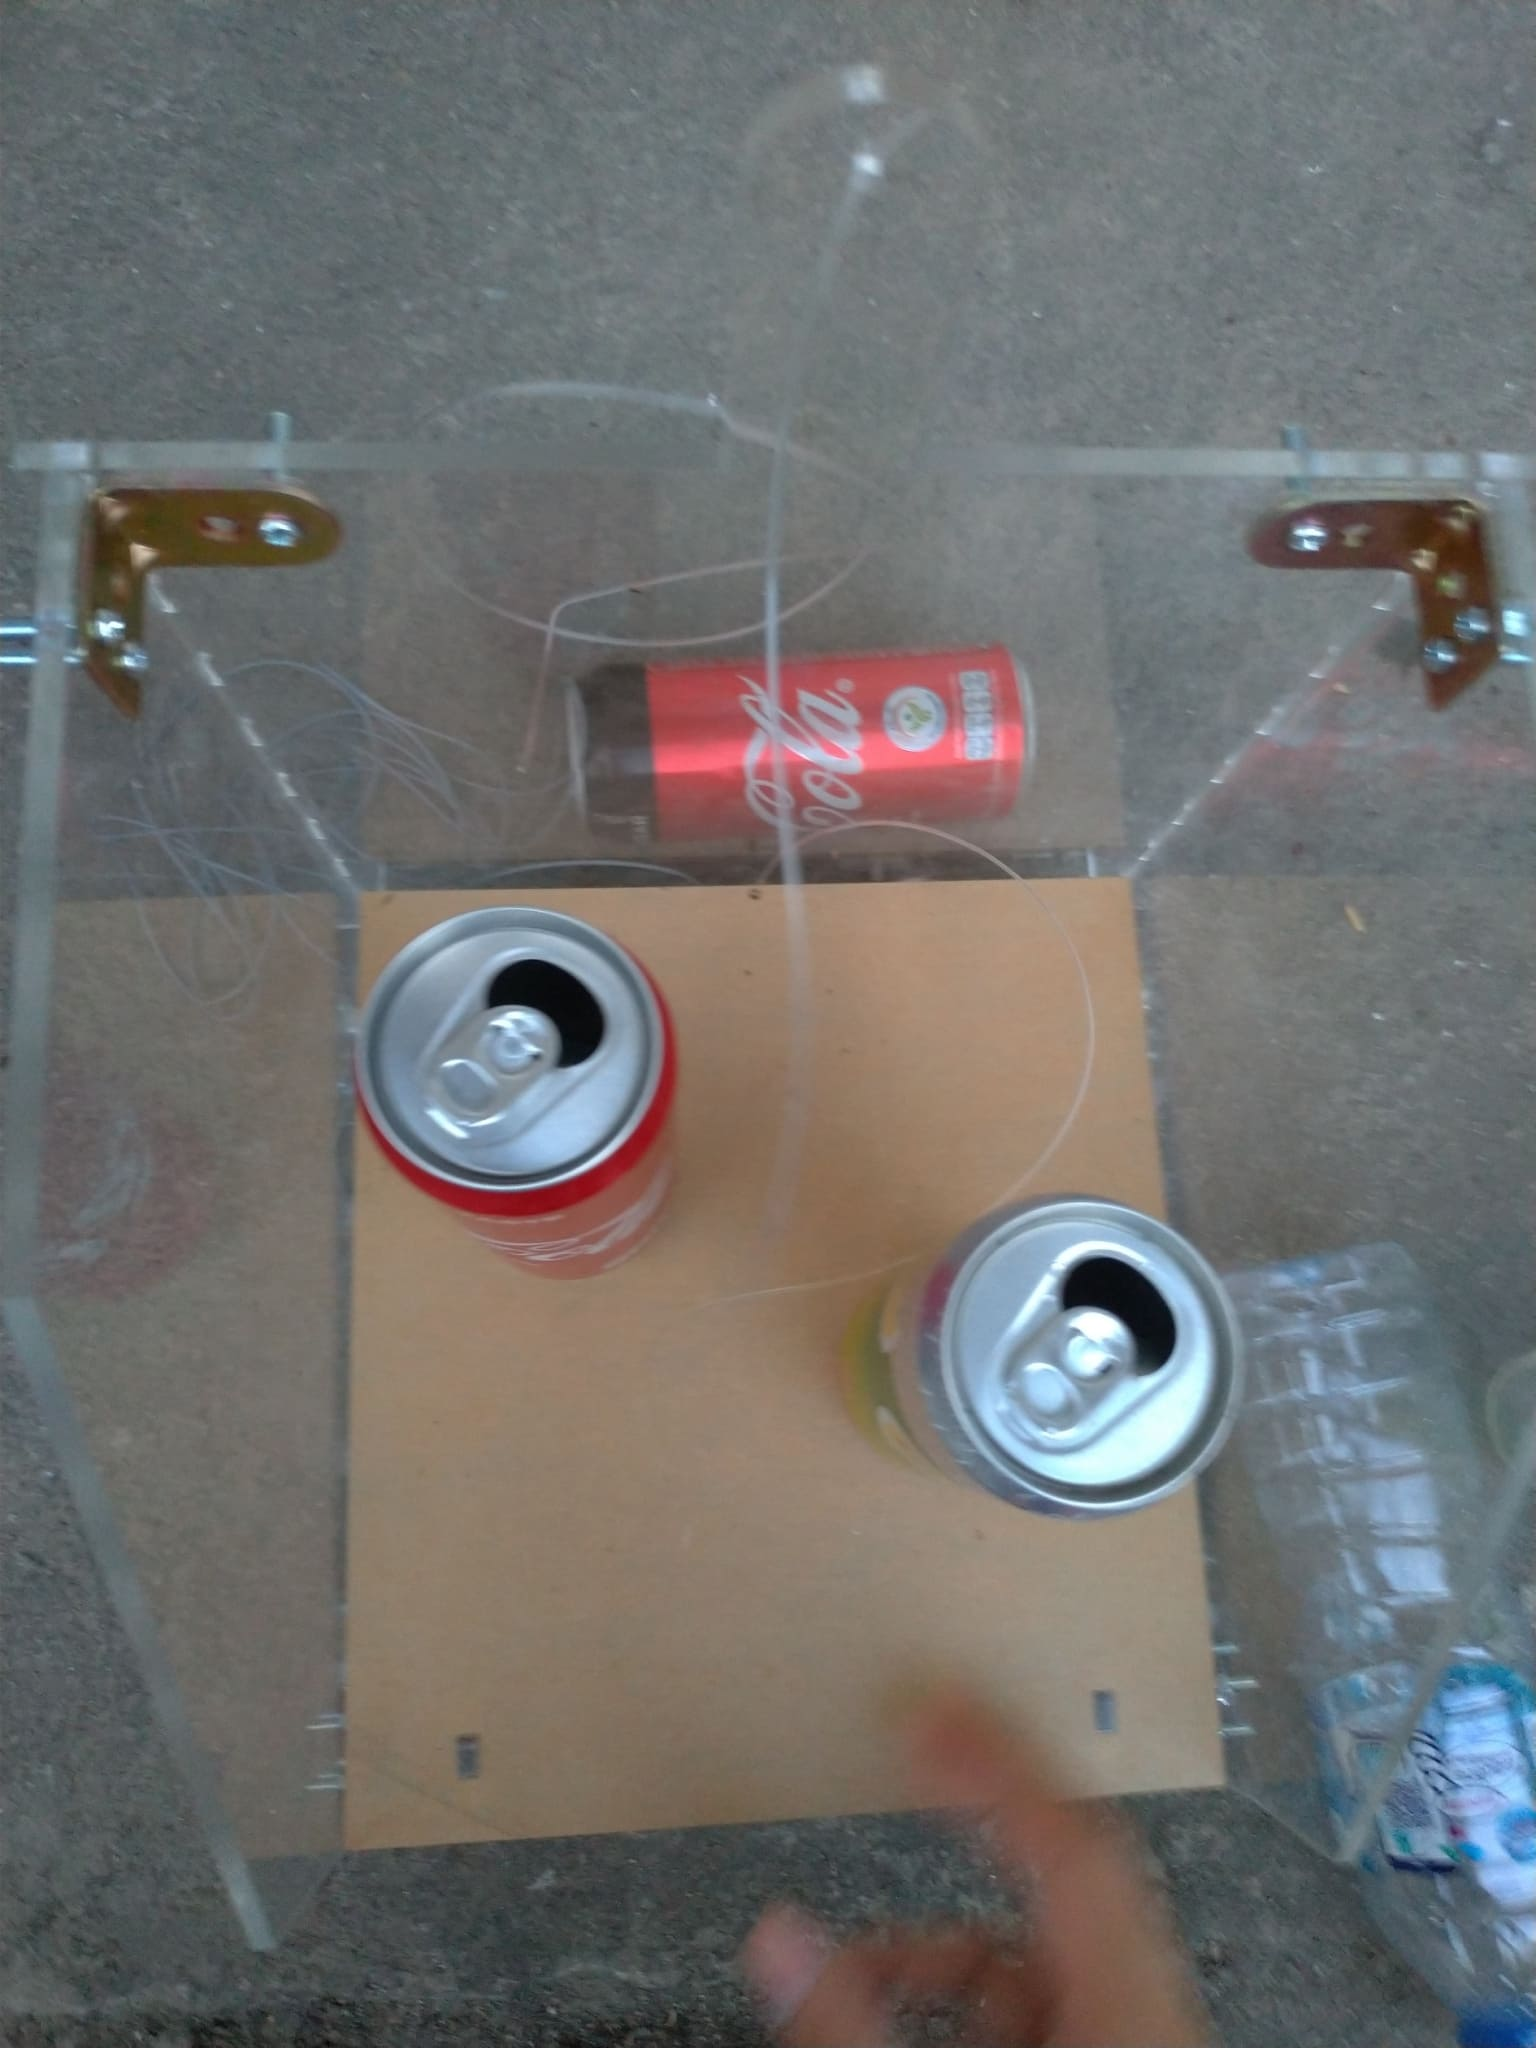AlCan: (854, 1192, 1250, 1508), (357, 908, 686, 1280), (563, 645, 1041, 851)
PlasticBottle: (1210, 1242, 1533, 2037)
